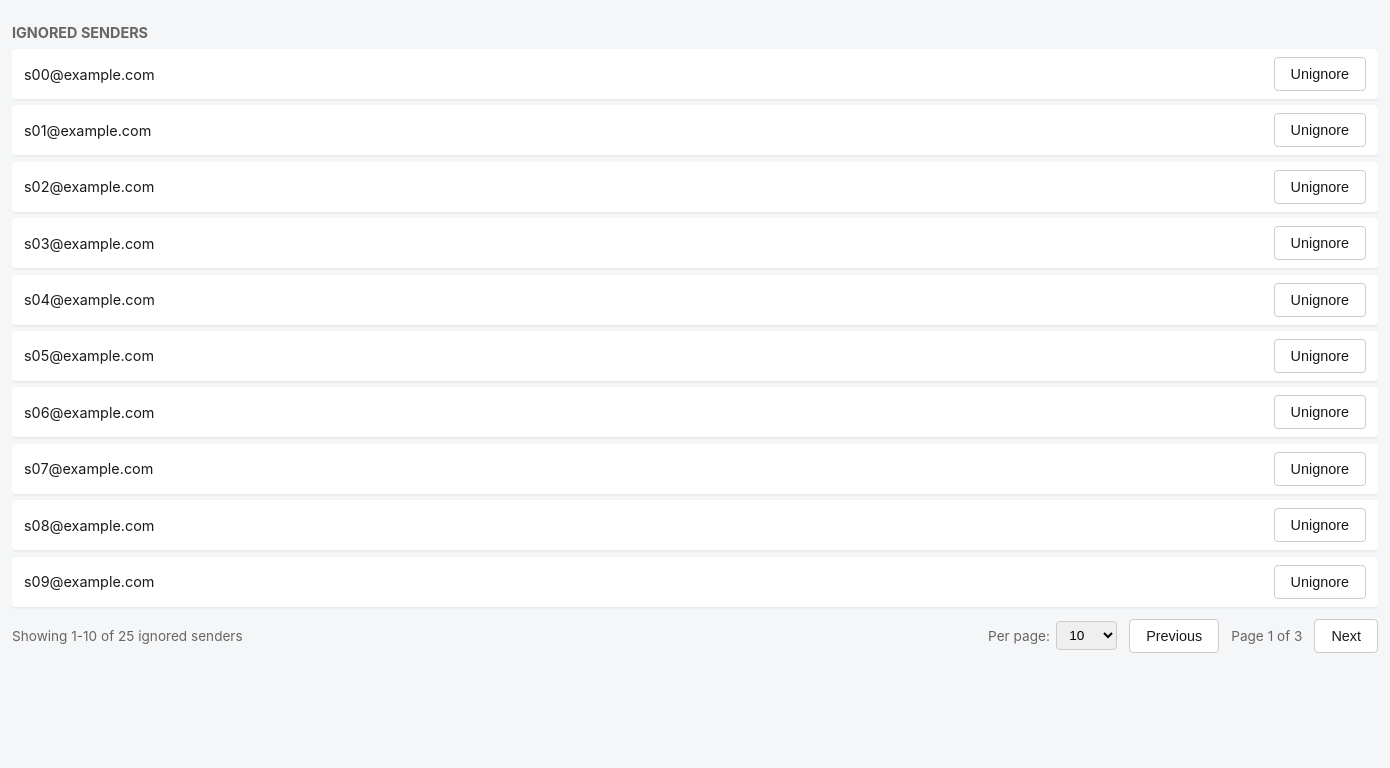
pagination › changing the page size re-pages the list and resets to page 1
Click the button "Next" at (1346,636), box x1=1314 y1=618 x2=1378 y2=652
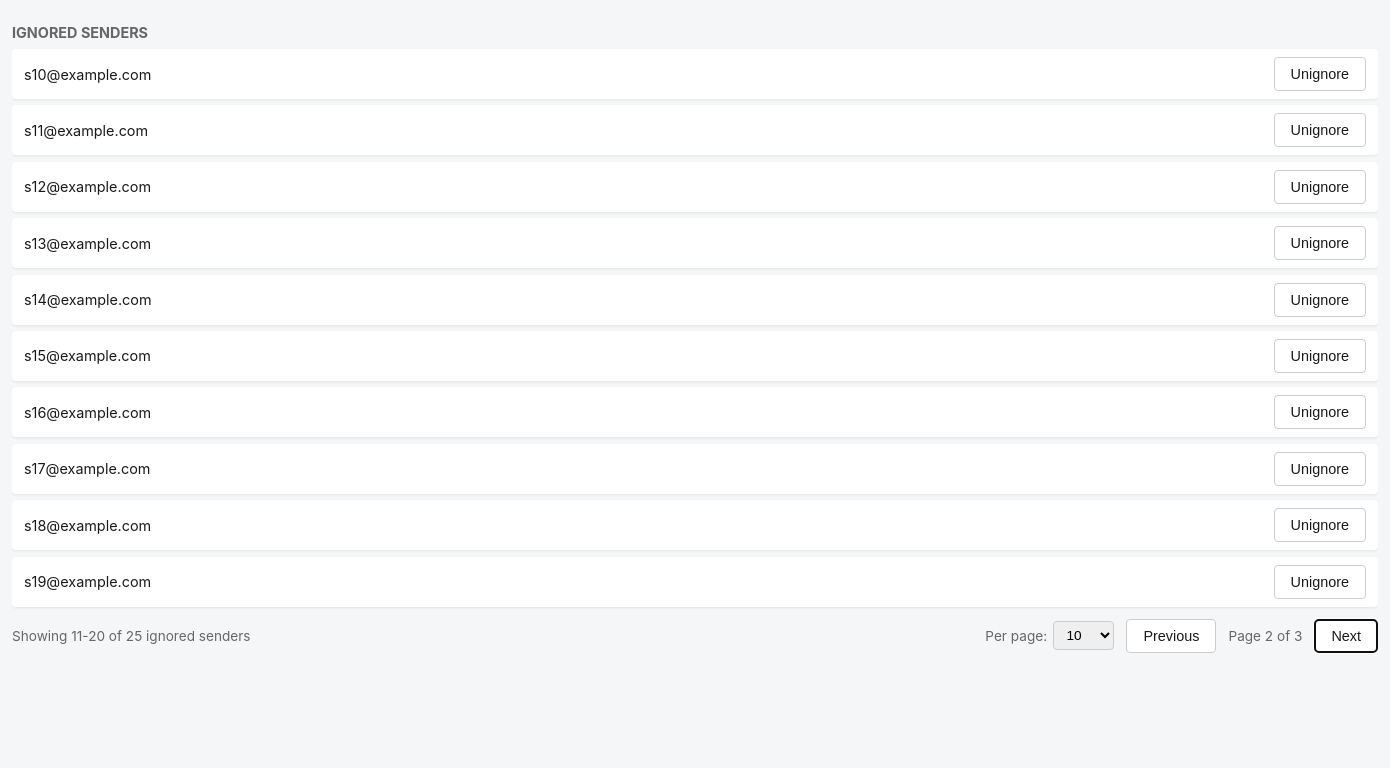
Select "25" in the dropdown at (1084,636), box x1=1054 y1=621 x2=1114 y2=650
(page scrolled)
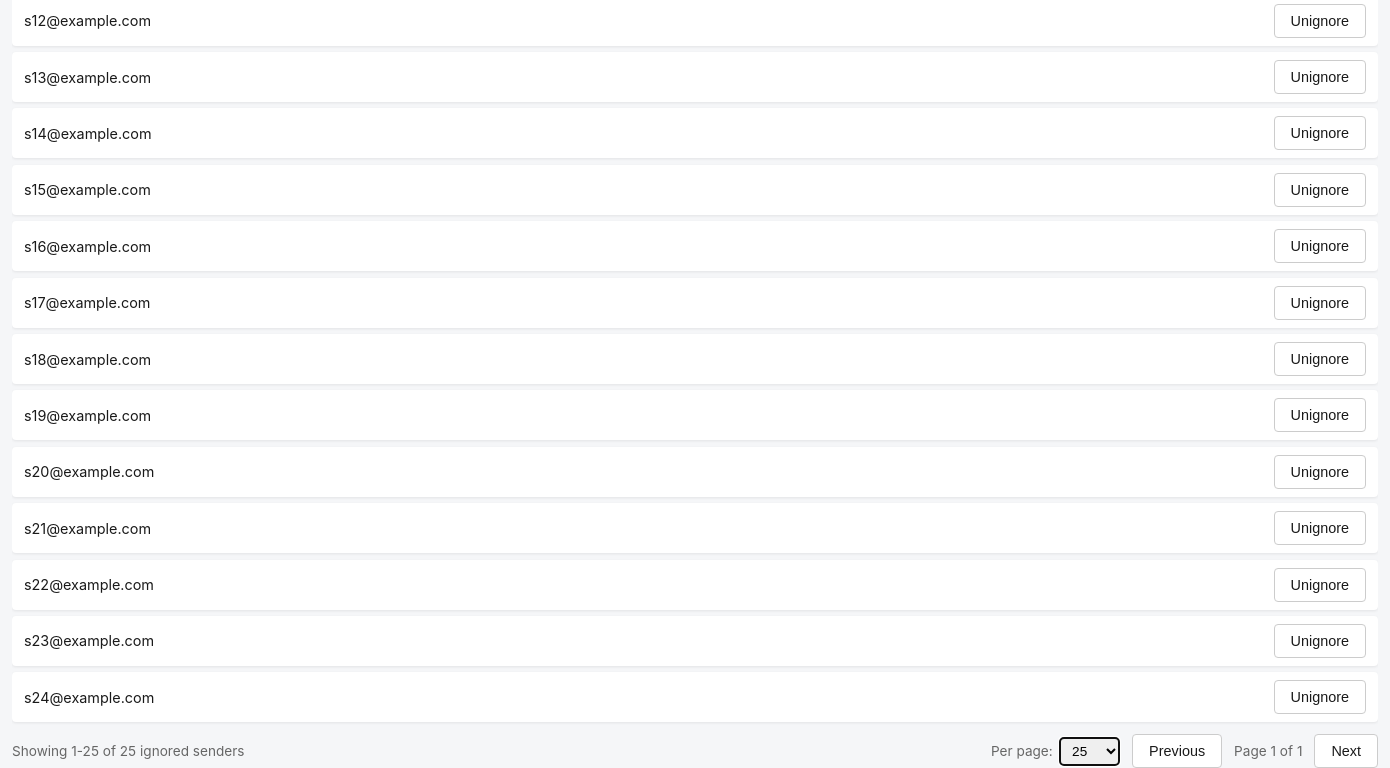
Check: the text "Page 1 of 1" is shown, box x1=1234 y1=743 x2=1302 y2=759
